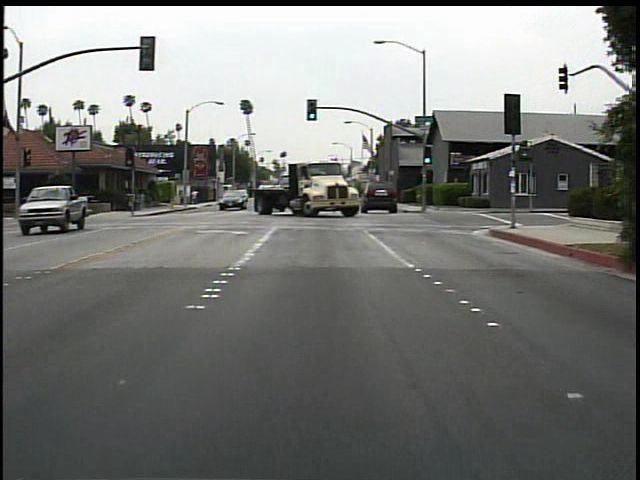person: (191, 185, 202, 207)
